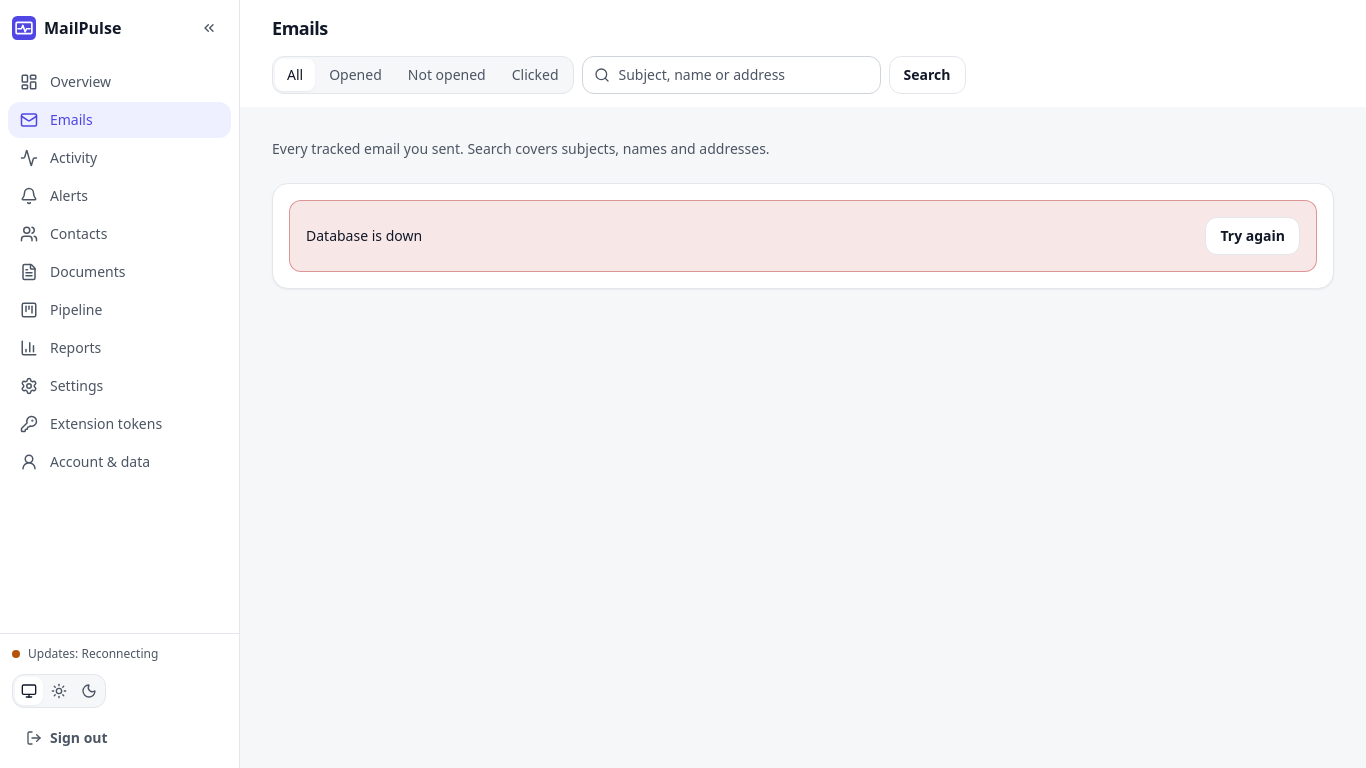
Test case: emails › shows an empty state and an error state with retry
This screenshot has width=1366, height=768.
Check: the message shows "Database is down", box x1=306 y1=226 x2=422 y2=245
Click the button "Try again" at [1253, 236], box x1=1205 y1=217 x2=1300 y2=255
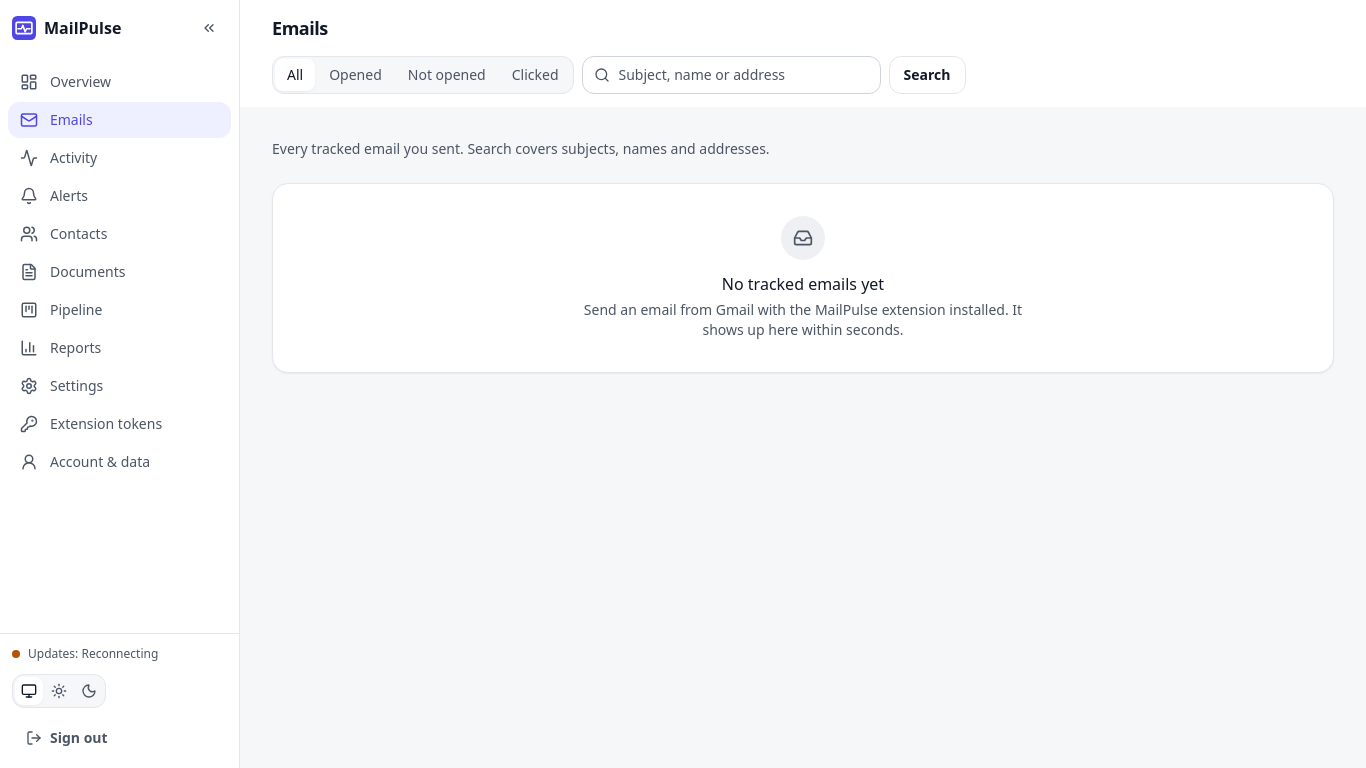
Check: the text "No tracked emails yet" is shown, box x1=722 y1=272 x2=884 y2=296
